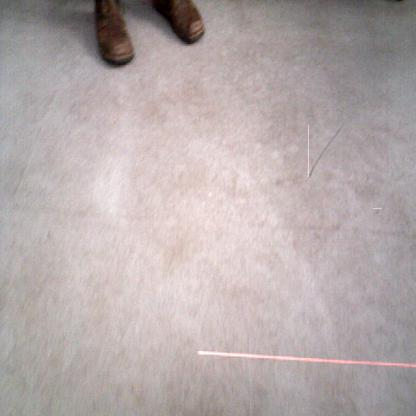mark: (308, 125, 341, 177), (373, 208, 382, 216)
